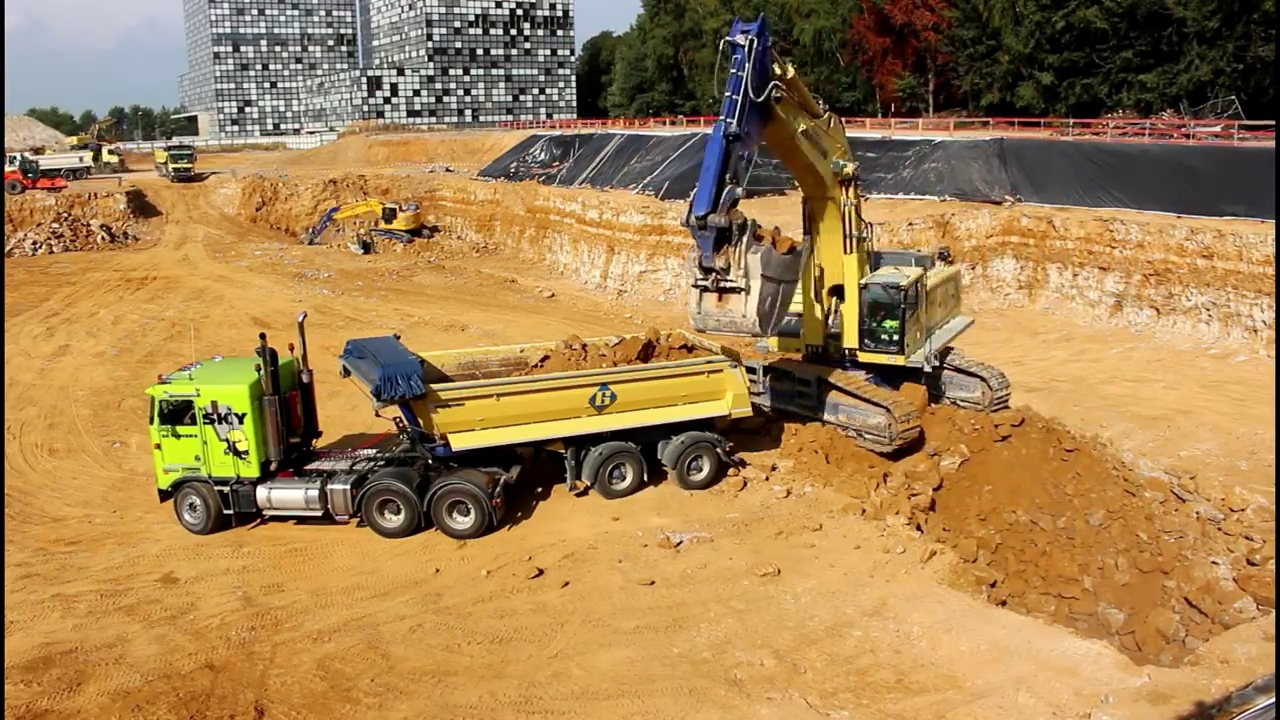compactor: (4, 162, 71, 198)
excavator: (664, 10, 1019, 464), (295, 198, 440, 252), (59, 116, 123, 154)
truck: (139, 306, 759, 545), (4, 147, 97, 179), (47, 144, 128, 175), (150, 137, 202, 183)
